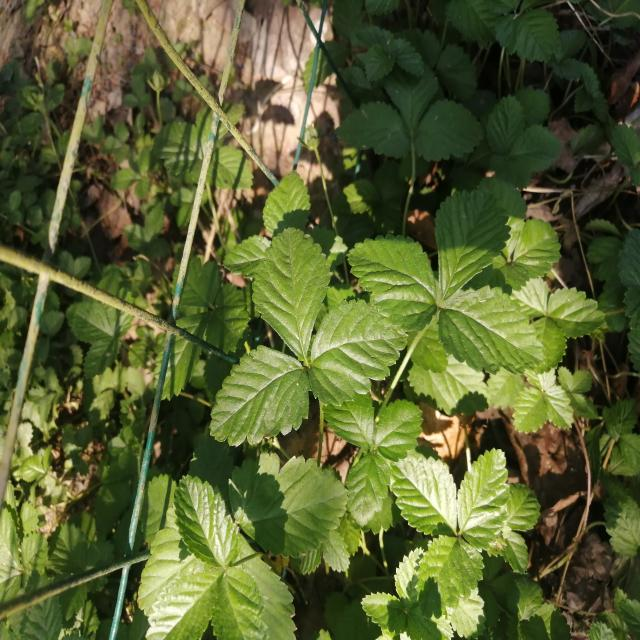Mock_strawberry: (216, 232, 423, 459), (370, 189, 546, 369), (388, 438, 507, 592)
